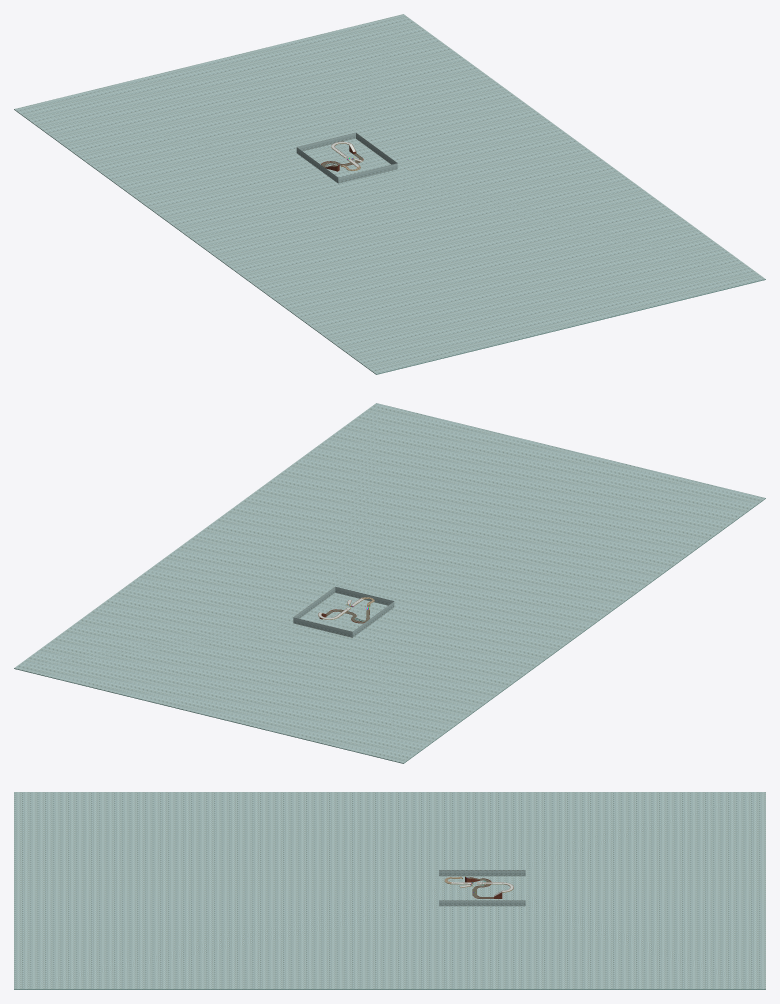
3 views of the same model, one above another, from view 1: azimuth 30°, elevation 25°; view 2: azimuth 150°, elevation 25°; view 3: azimuth 270°, elevation 25° (orthographic). The views are drawn at different scales.
Visible parts, largest first — view 1: Newmodel4-SKP--Fall.001, Newmodel4-SKP--Dirt.001; view 2: Newmodel4-SKP--Fall.001, Newmodel4-SKP--Dirt.001; view 3: Newmodel4-SKP--Fall.001, Newmodel4-SKP--Dirt.001.
Part boxes in pixels (box(x1,y1,x2,y2)): Newmodel4-SKP--Fall.001: box(14, 14, 765, 374); Newmodel4-SKP--Dirt.001: box(14, 109, 765, 374); Newmodel4-SKP--Fall.001: box(14, 403, 765, 763); Newmodel4-SKP--Dirt.001: box(14, 498, 765, 763); Newmodel4-SKP--Fall.001: box(14, 792, 765, 989); Newmodel4-SKP--Dirt.001: box(14, 880, 765, 989).
Size of the model in its own units: 437812 by 7903 by 705176.
10 materials, 10 textured.
